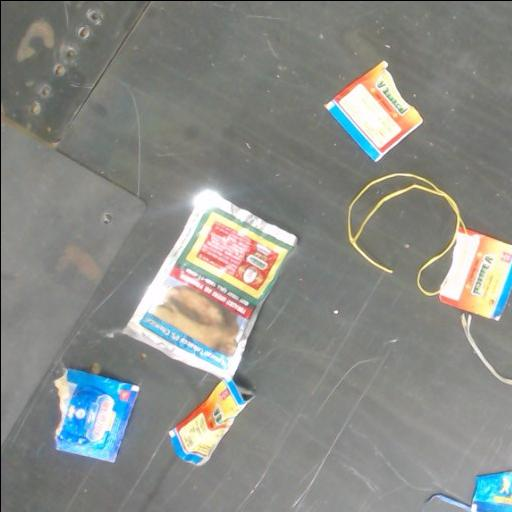conveyor belt: (1, 1, 512, 512)
packet: (106, 190, 296, 464), (324, 60, 421, 161), (437, 203, 512, 327), (55, 368, 138, 461), (472, 471, 512, 512)
thread: (347, 172, 467, 300), (461, 312, 512, 385), (424, 493, 469, 512)
